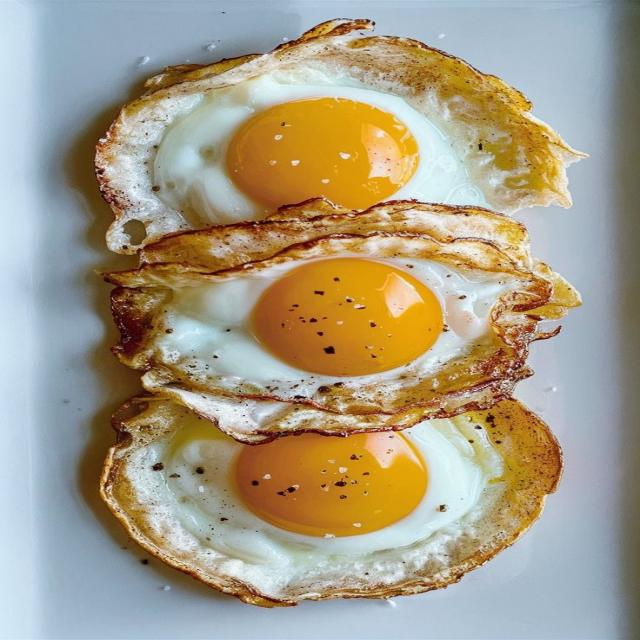fryed egg: (96, 20, 583, 252), (107, 203, 579, 415), (102, 398, 561, 606), (154, 72, 486, 226)
